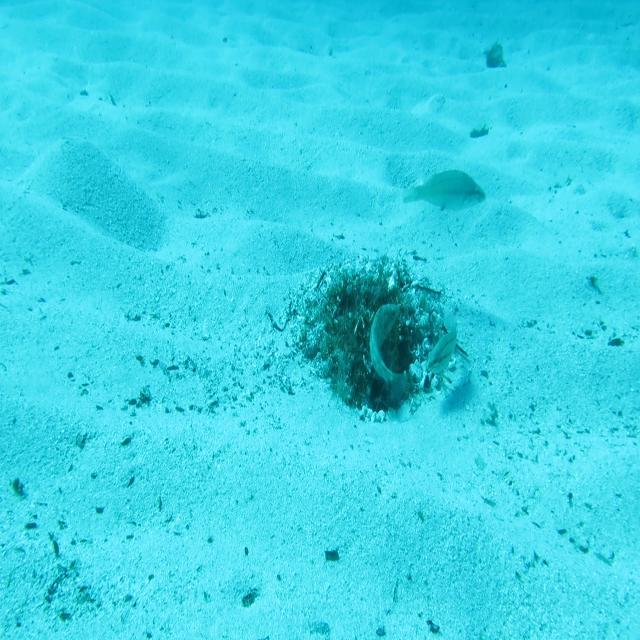DAN_CIRC: (368, 302, 410, 406)
core_nest: (348, 287, 392, 319)
female: (401, 168, 486, 213), (426, 309, 457, 376)
nest: (288, 241, 458, 427)
vegetation: (485, 42, 508, 70), (468, 122, 489, 140), (324, 545, 340, 566)
